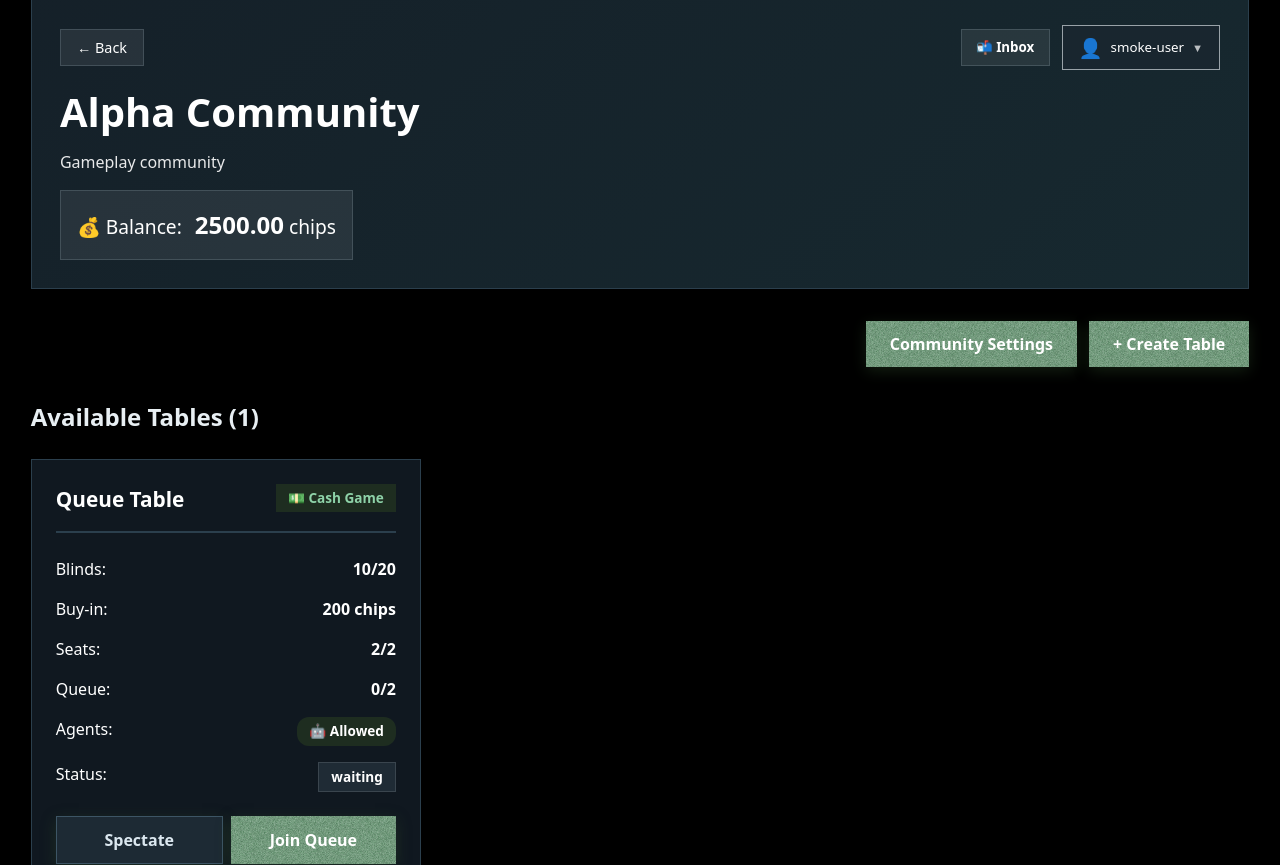
Test: CommunityLobbyPage behavior › updates the lobby card after a successful queue join
The width and height of the screenshot is (1280, 865).
Click the button with test id "join-queue-button".
click(313, 840)  # box [231,816,396,864]
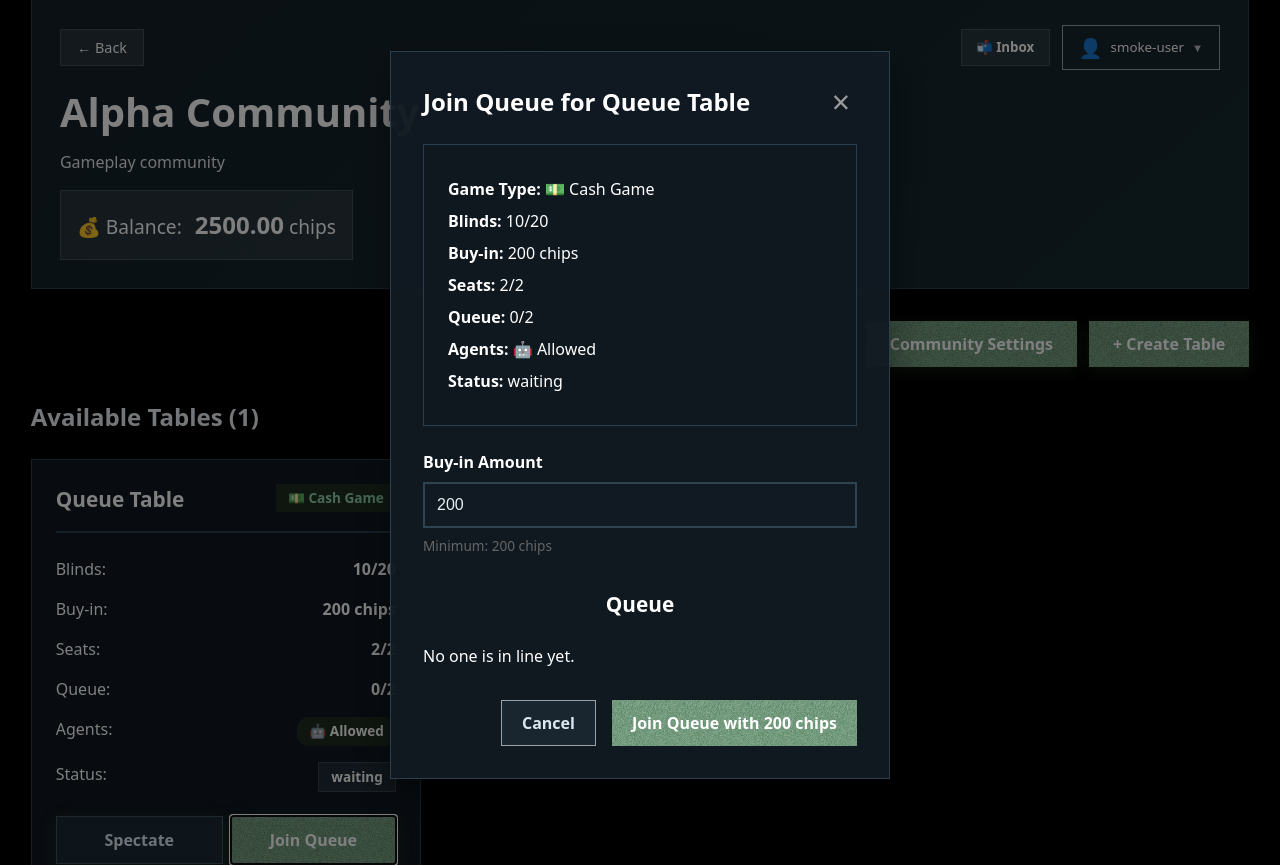
Replace the text in the number field with test id "queue-buy-in-input" with "350" at (640, 505), box [423,482,857,528]
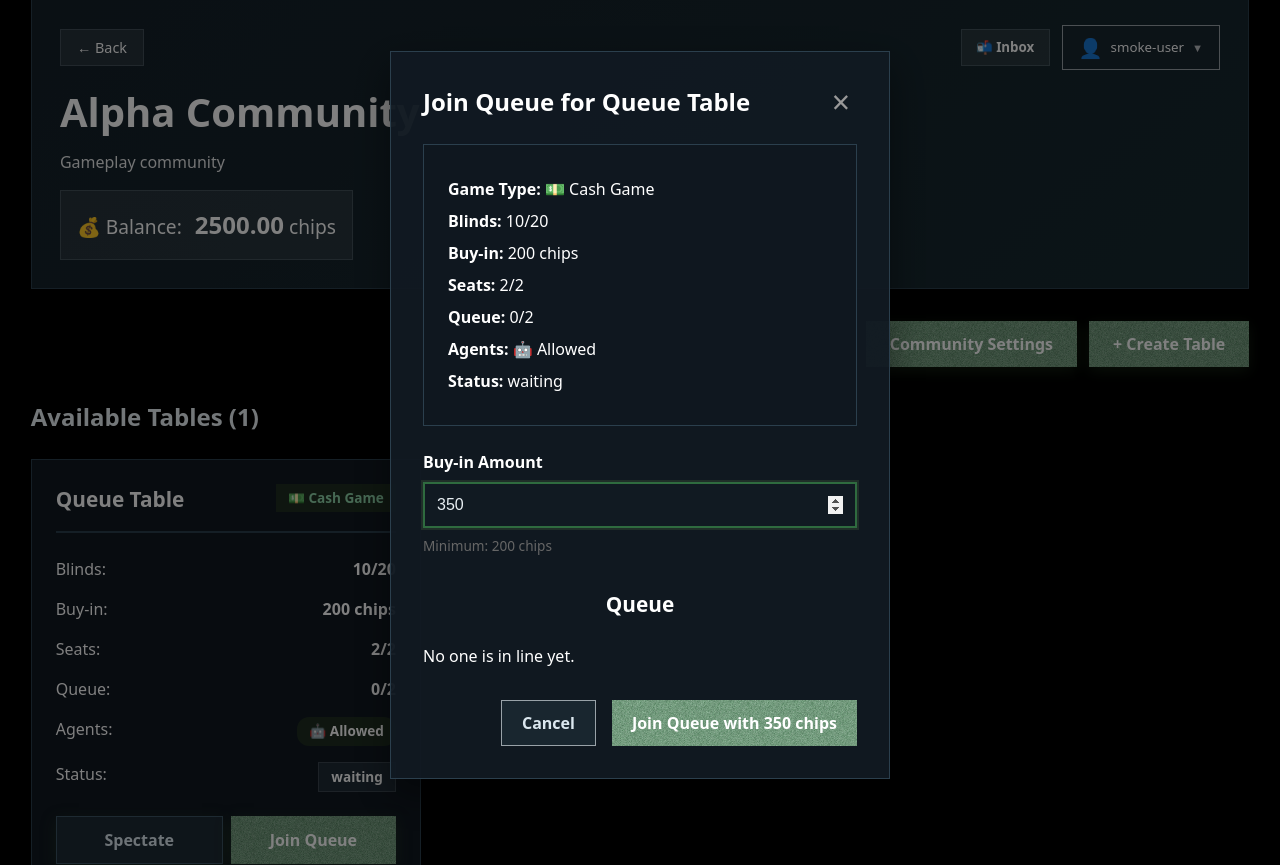
Click the button with test id "confirm-queue-button".
click(734, 723)  # box [612,700,857,746]
(page scrolled)
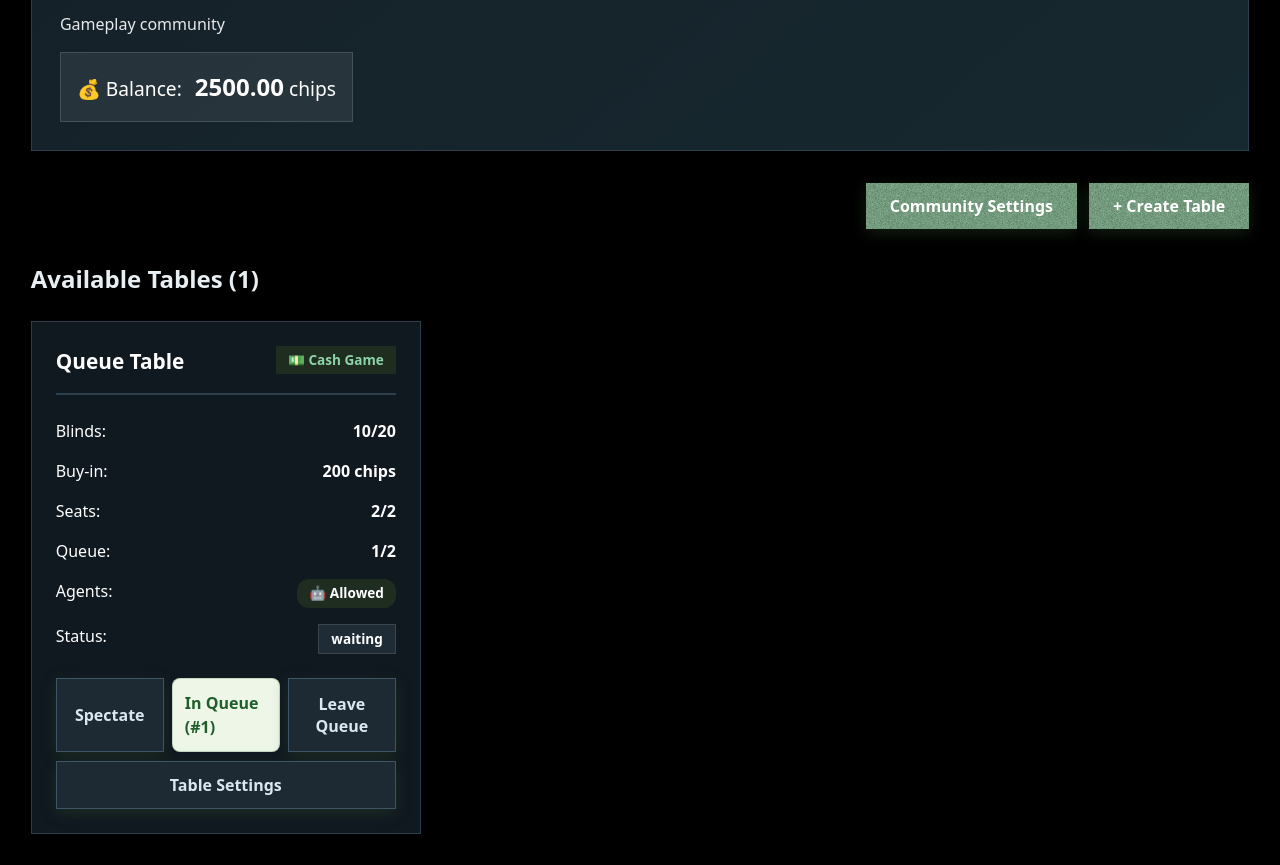
Result: the text with test id "queue-position-label" reads "In Queue (#1)" at [172,678,280,752]
Result: the button with test id "leave-queue-button" reads "Leave Queue" at [288,678,396,752]
Result: the heading "Join Queue for Queue Table" is gone
